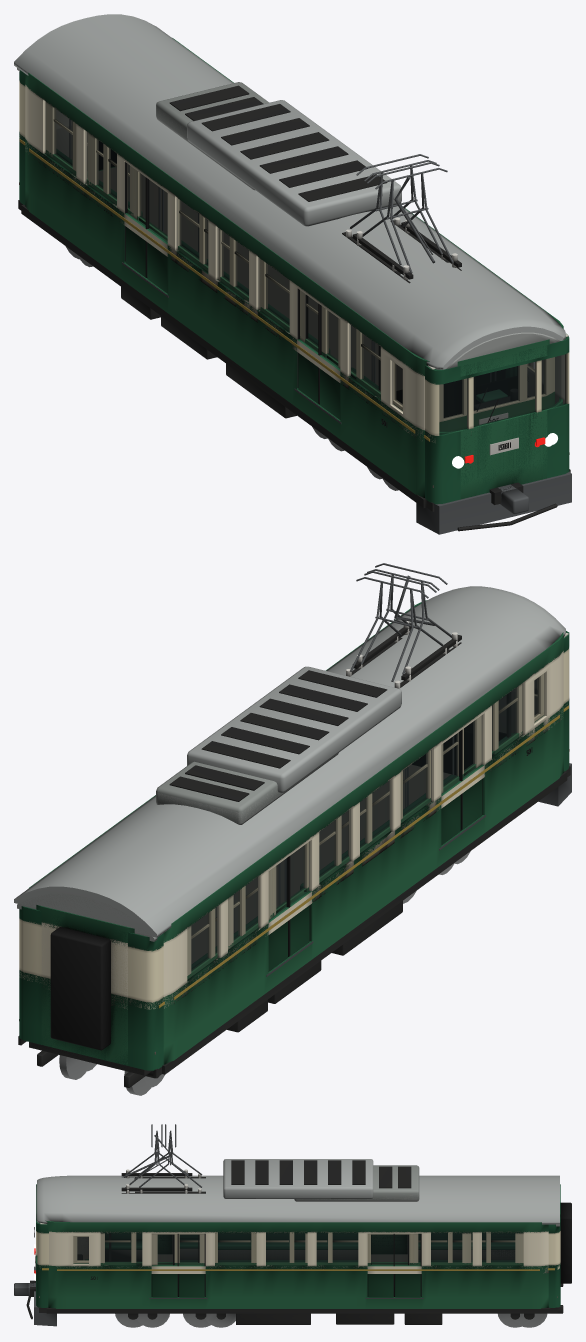
Rendered from trains.glb.
The picture shows the model from 3 angles, top to bottom: view 1: azimuth 30°, elevation 25°; view 2: azimuth 150°, elevation 25°; view 3: azimuth 270°, elevation 25°; orthographic projection. The views are drawn at different scales.
Visible parts, largest first — view 1: Enoden_500, Enoden_1000, Enoden_300; view 2: Enoden_500, Enoden_1000, Enoden_300; view 3: Enoden_500, Enoden_300, Enoden_1000.
Part boxes in pixels (box(x1,y1,x2,y2)): Enoden_500: box(14, 14, 571, 534); Enoden_1000: box(17, 68, 570, 531); Enoden_300: box(46, 82, 554, 505); Enoden_500: box(14, 563, 571, 1095); Enoden_1000: box(17, 575, 570, 1095); Enoden_300: box(53, 571, 544, 1087); Enoden_500: box(14, 1124, 571, 1327); Enoden_300: box(28, 1124, 530, 1327); Enoden_1000: box(26, 1130, 571, 1327).
Size of what is drawn, in the model's own units: 2.52 by 4.87 by 13.38.
